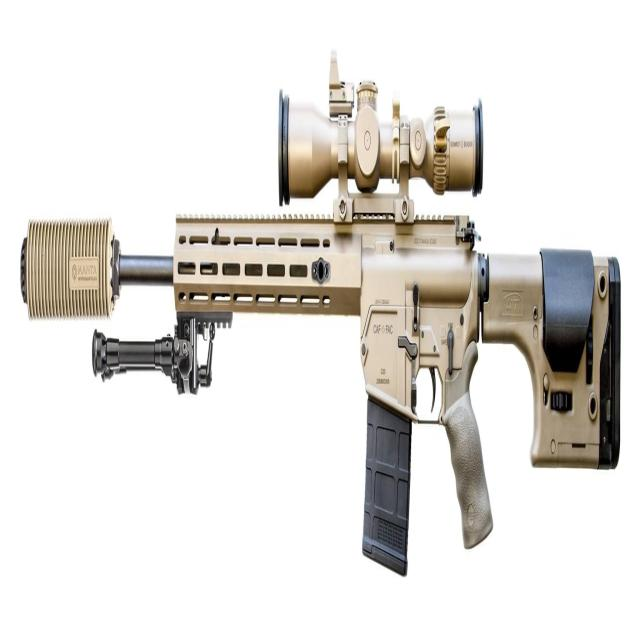Rifle: (21, 49, 621, 578)
